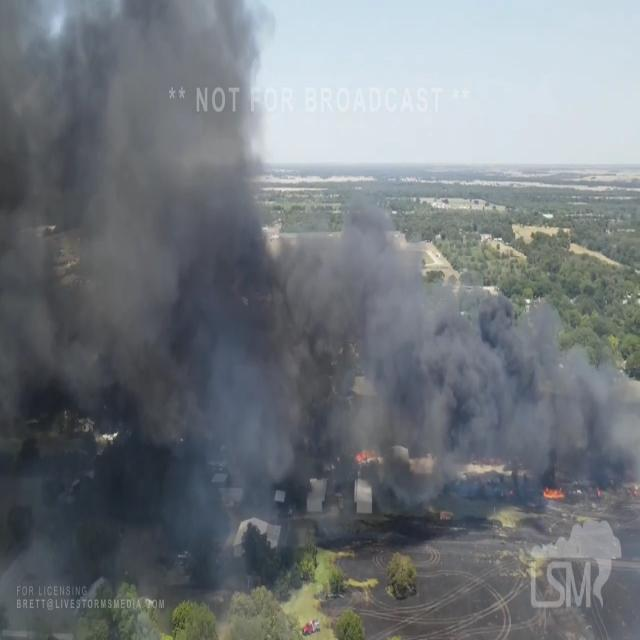Smoke: (15, 26, 630, 526)
